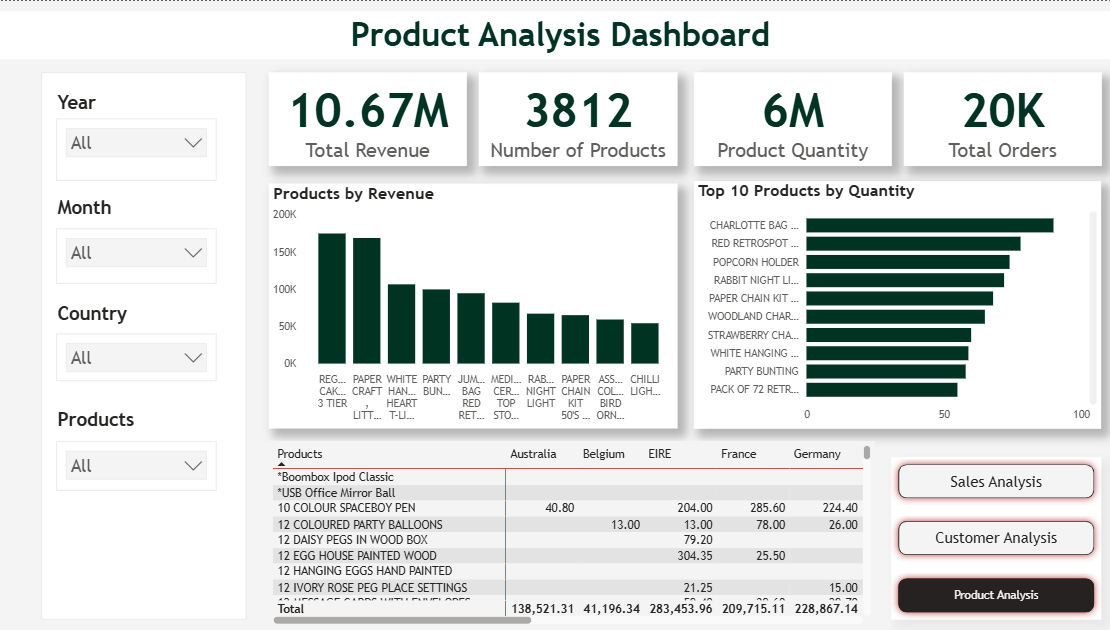

The page's visual inventory and layout, read from the dashboard file:
{"tool":"powerbi","page":{"name":"Product Analysis","canvas":[1280,720],"ordinal":2},"visuals":[{"type":"textbox","box":[0,11,1280.3,54.9],"z":0},{"type":"card","fields":{"Values":["retail_full.Total Revenue"]},"box":[307.4,81,226.4,107],"z":1000},{"type":"card","fields":{"Values":["Sum(retail_full.Quantity)"]},"box":[793.1,81,226.4,107],"z":2000},{"type":"card","fields":{"Values":["Sum(vw_kpi_summary.TotalOrders)"]},"box":[1033.3,81,226.4,107],"z":3000},{"type":"clusteredBarChart","title":"Top 10 Products by Quantity","fields":{"Y":["Count(retail_full.Quantity)"],"Category":["retail_full.Description"]},"box":[792.9,205.7,465.7,282.9],"z":4000},{"type":"columnChart","title":"Products by Revenue","fields":{"Y":["retail_full.Total Revenue"],"Category":["products_cleaned.Description"]},"box":[307.1,208.6,467.1,280],"z":5000},{"type":"textbox","box":[47.1,81.4,234.3,625.7],"z":6000},{"type":"slicer","fields":{"Values":["retail_full.Country"]},"box":[64.3,380,182.9,54.3],"z":7000},{"type":"slicer","fields":{"Values":["retail_full.YearMonth.Variation.Date Hierarchy.Year"]},"box":[64.3,134.3,182.9,71.4],"z":8000},{"type":"slicer","fields":{"Values":["retail_full.YearMonth.Variation.Date Hierarchy.Month"]},"box":[64.3,260,182.9,62.9],"z":9000},{"type":"slicer","fields":{"Values":["retail_full.Description"]},"box":[64.3,502.9,182.9,57.1],"z":10000},{"type":"card","title":"Total Transactions","fields":{"Values":["Count(retail_full.StockCode)"]},"box":[547.1,81.4,227.1,107.1],"z":11000},{"type":"pageNavigator","box":[1018.6,521.4,240,185.7],"z":12000},{"type":"pivotTable","fields":{"Rows":["retail_full.Description"],"Columns":["retail_full.Country"],"Values":["Sum(retail_full.Revenue)"]},"box":[307.1,502.9,692.9,214.3],"z":12001}]}

Visuals, with their boxes in screenshot pixels (x1, y1, x2, y2), scaled from the page's 1280x720 canvas onto the 1110x630 screenshot:
textbox: left=0, top=10, right=1109, bottom=58
card - retail_full.Total Revenue: left=267, top=71, right=463, bottom=164
card - Sum(retail_full.Quantity): left=688, top=71, right=884, bottom=164
card - Sum(vw_kpi_summary.TotalOrders): left=896, top=71, right=1092, bottom=164
"Top 10 Products by Quantity" clusteredBarChart: left=688, top=180, right=1091, bottom=428
"Products by Revenue" columnChart: left=266, top=183, right=671, bottom=428
textbox: left=41, top=71, right=244, bottom=619
slicer - retail_full.Country: left=56, top=332, right=214, bottom=380
slicer - retail_full.YearMonth.Variation.Date Hierarchy.Year: left=56, top=118, right=214, bottom=180
slicer - retail_full.YearMonth.Variation.Date Hierarchy.Month: left=56, top=228, right=214, bottom=283
slicer - retail_full.Description: left=56, top=440, right=214, bottom=490
"Total Transactions" card: left=474, top=71, right=671, bottom=165
pageNavigator: left=883, top=456, right=1091, bottom=619
pivotTable - retail_full.Description x retail_full.Country: left=266, top=440, right=867, bottom=628
